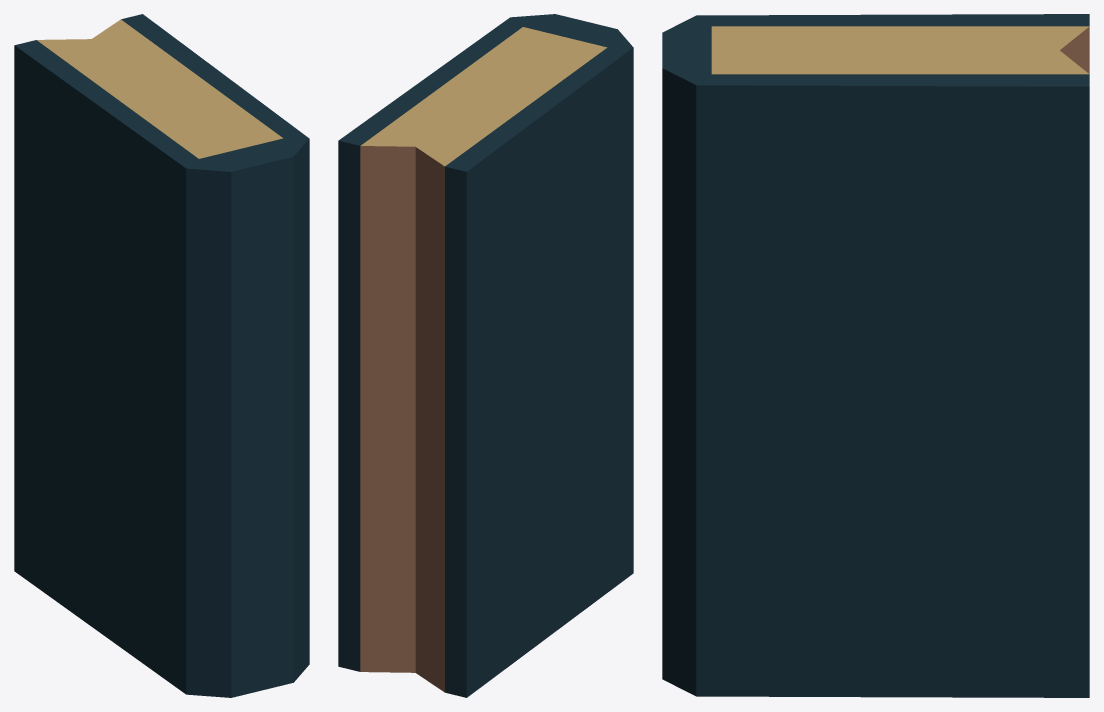
Rendered from TB_Prop_Book_C.FBX.
3 views of the same model, side by side, from view 1: azimuth 30°, elevation 25°; view 2: azimuth 150°, elevation 25°; view 3: azimuth 270°, elevation 25° (orthographic). The views are drawn at different scales.
Visible parts, largest first — view 1: TB_Prop_Book_C; view 2: TB_Prop_Book_C; view 3: TB_Prop_Book_C.
Boxes of the visible parts, x1,y1,x2,y2 form: TB_Prop_Book_C: (14,14,309,697); TB_Prop_Book_C: (338,14,633,697); TB_Prop_Book_C: (662,14,1089,697).
Size of the model in its own units: 0.2144 by 0.8401 by 0.5323.
